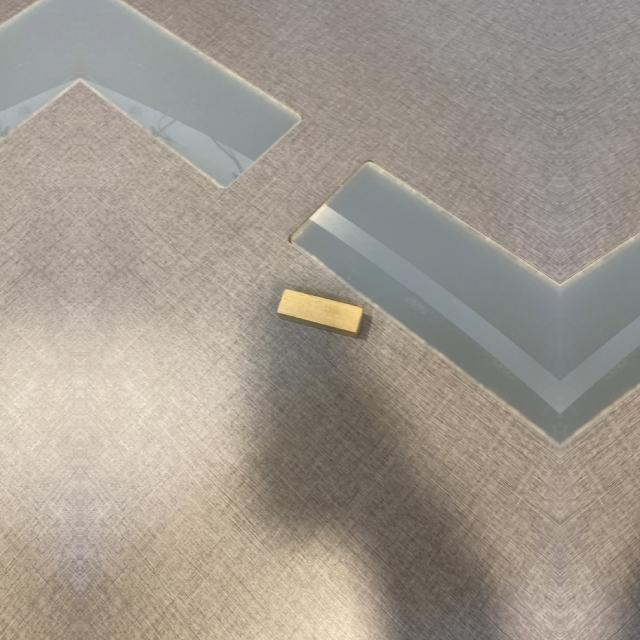jenga: (277, 288, 363, 338)
